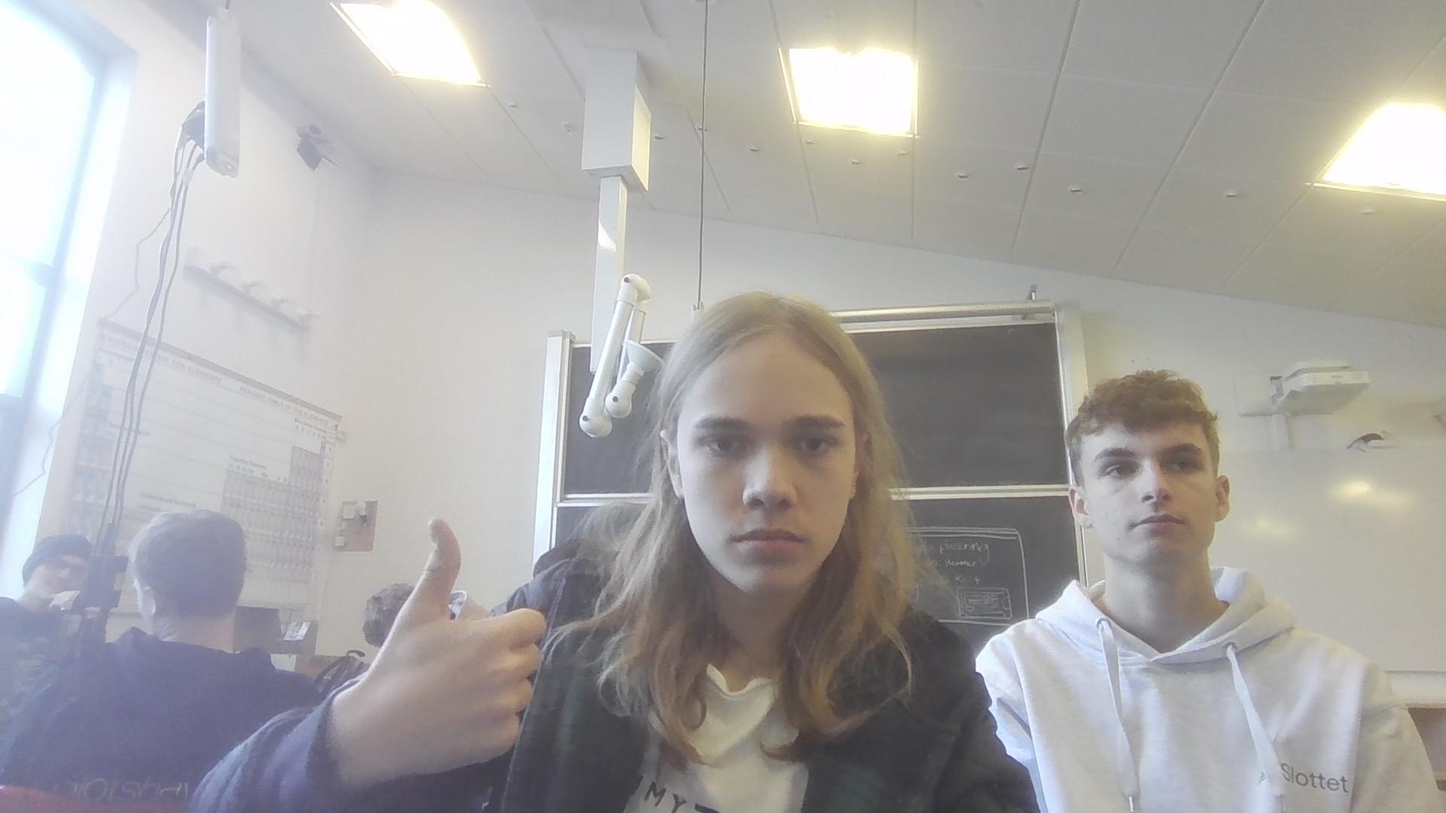thumbs up: (328, 507, 546, 788)
